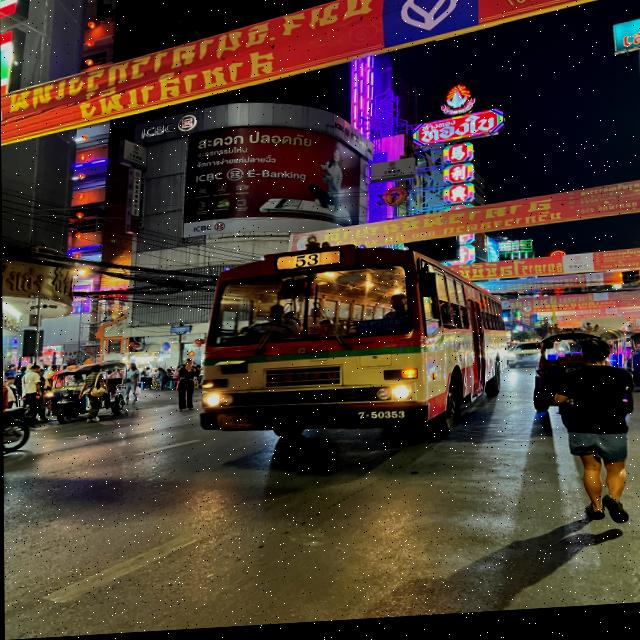BMTA-bus: (196, 243, 504, 456)
Bus-Line-Number: (275, 256, 341, 273)
Destination-Sign-Normal: (352, 322, 410, 342)
